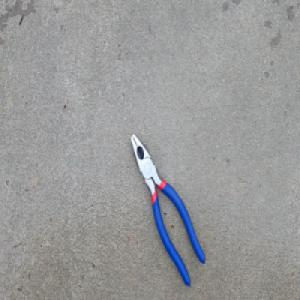Pliers: (130, 131, 206, 289)
